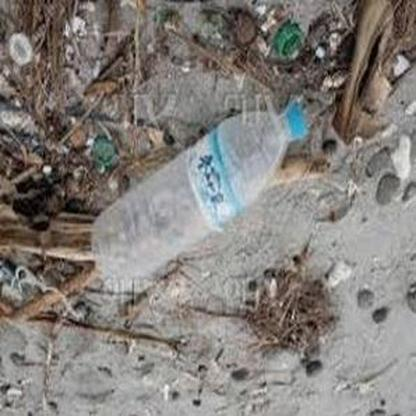plastic bottle: (90, 102, 306, 281)
